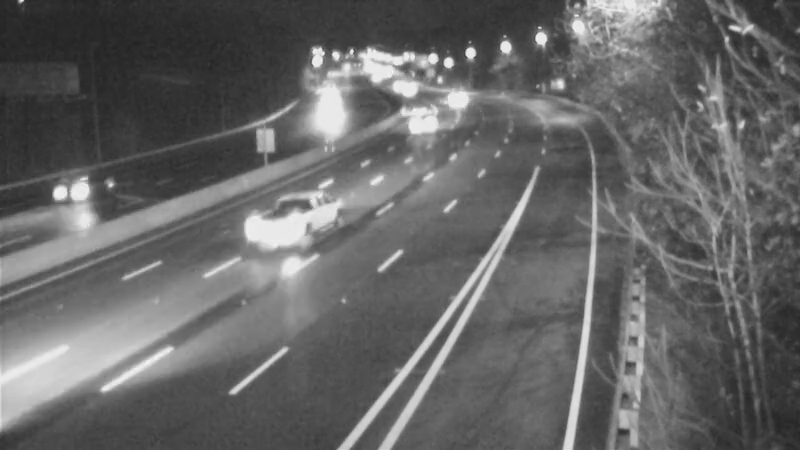vehicle: (238, 194, 318, 274), (39, 151, 119, 231), (383, 57, 433, 107), (429, 70, 479, 120), (392, 84, 442, 134), (402, 102, 452, 152), (295, 85, 345, 135)
